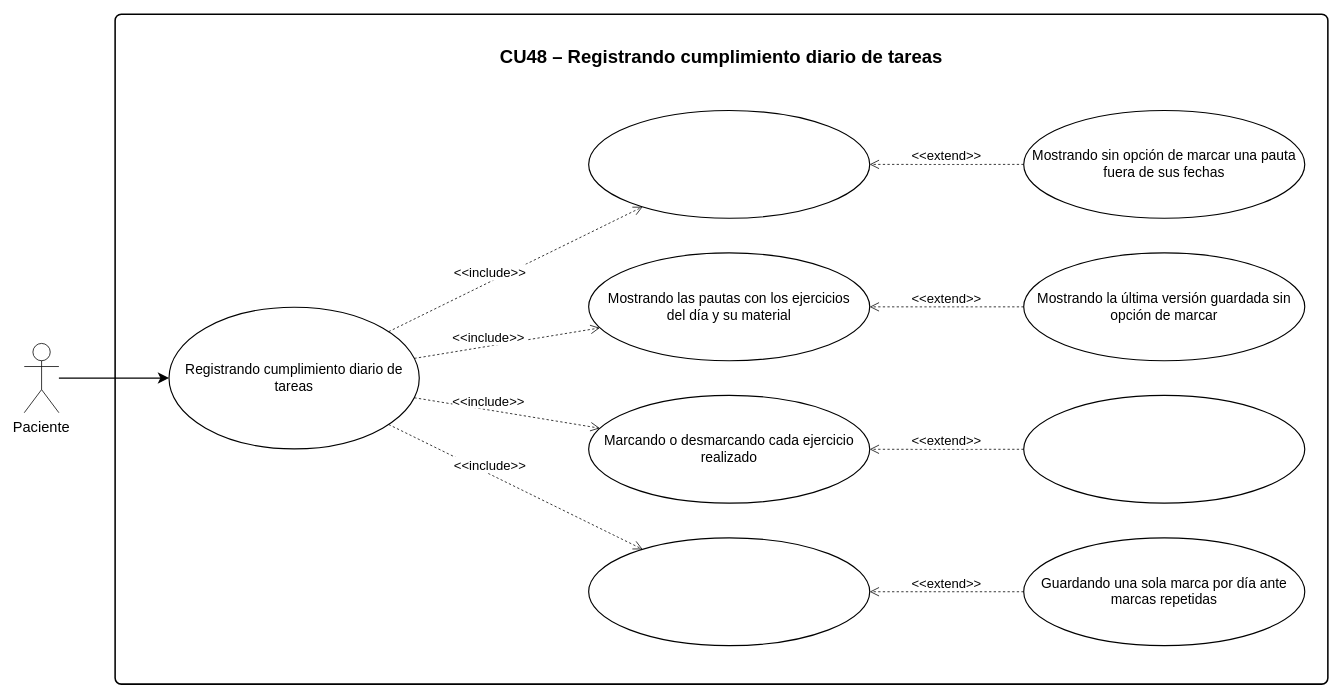
The diagram is 1342 pixels wide and 698 high, and some of its shapes have lost their labels. Each missing label, with the centre of its shape:
"Abriendo sus ejercicios" belongs at point 729,164.
"Guardando la marca del día y actualizando el cumplimiento" belongs at point 729,591.
"Indicando que el ejercicio no corresponde a ese día" belongs at point 1164,448.
